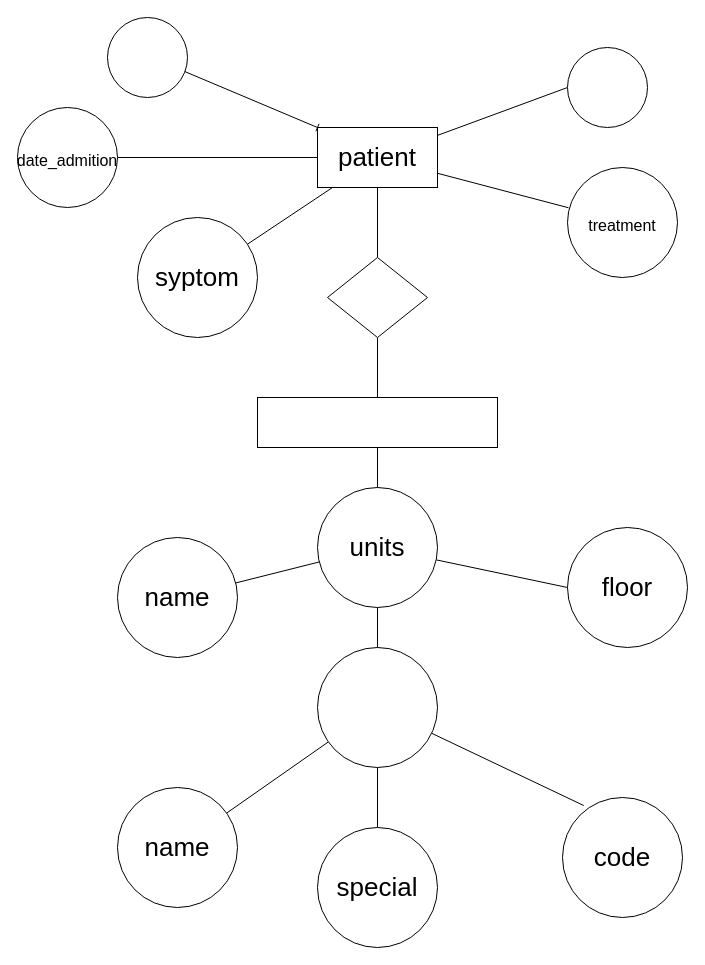
This 705x965 diagram has some shape labels left out. The centre of each missing label's shape, as x and y in pixels:
age: (x=607, y=87)
doctor: (x=377, y=707)
health_center: (x=377, y=422)
ssn: (x=147, y=57)
visit: (x=377, y=297)
